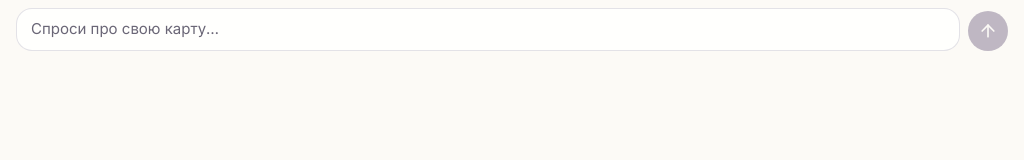
it: Composer › submit sends value.trim() and clears input
Type "  hello world  " into the text box named "Сообщение" at (488, 30), box [17,9,959,50]
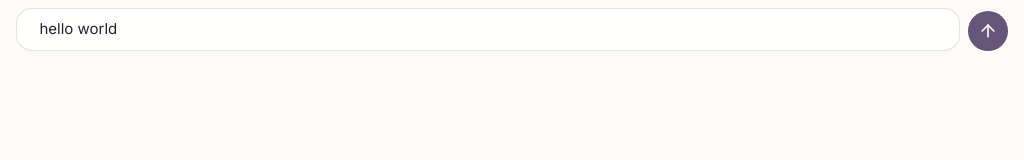
Press Enter in the text box named "Сообщение", box [17,9,959,50]
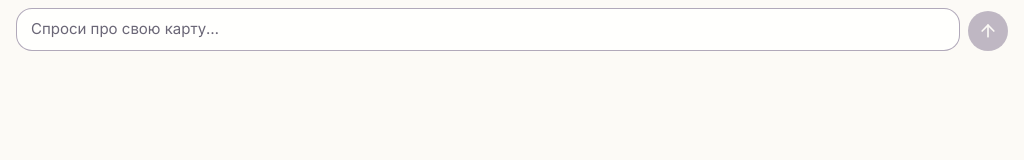
Expected: the text box named "Сообщение" is empty, [17,9,959,50]
